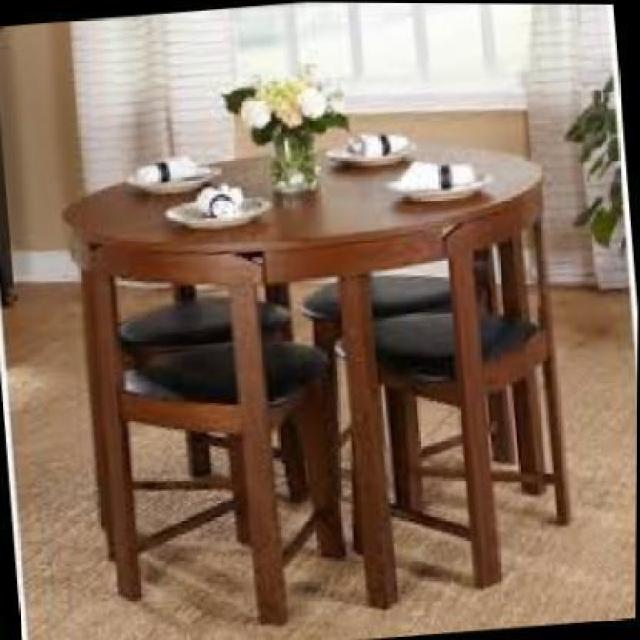tables: (60, 137, 545, 611)
